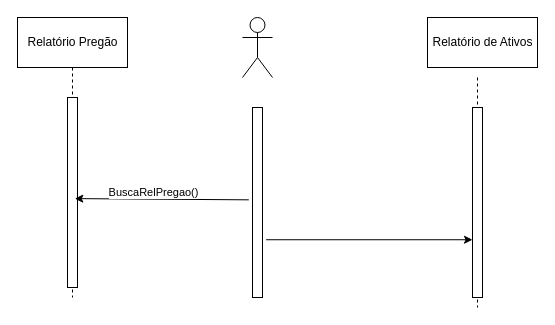
Image size: 555x325. Some labels were removed from this diagram. Here are the shapes that lost their labels. From the top down, the box of each, then its label:
(242, 16, 272, 78): Sistema
(422, 76, 532, 308): AtualizaRelAtivos()
